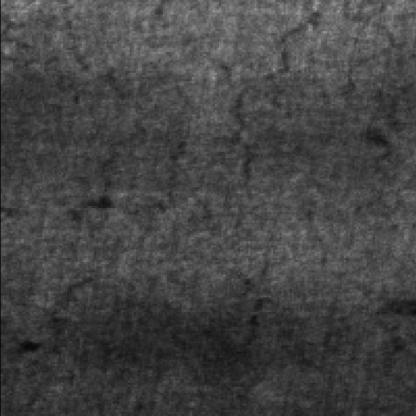crazing: (233, 19, 399, 218)
